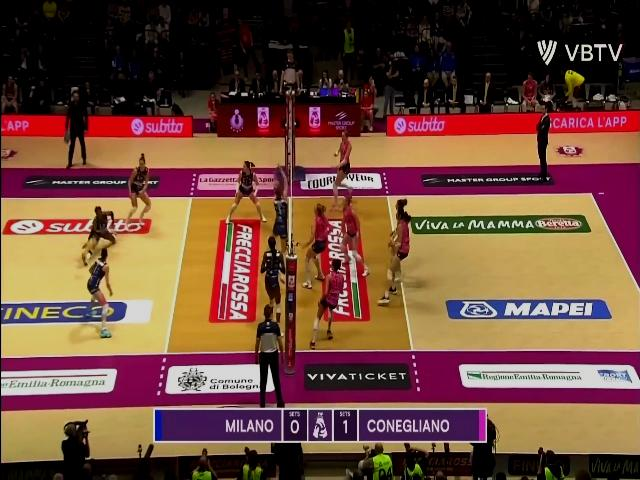volleyball court: (1, 191, 638, 360)
